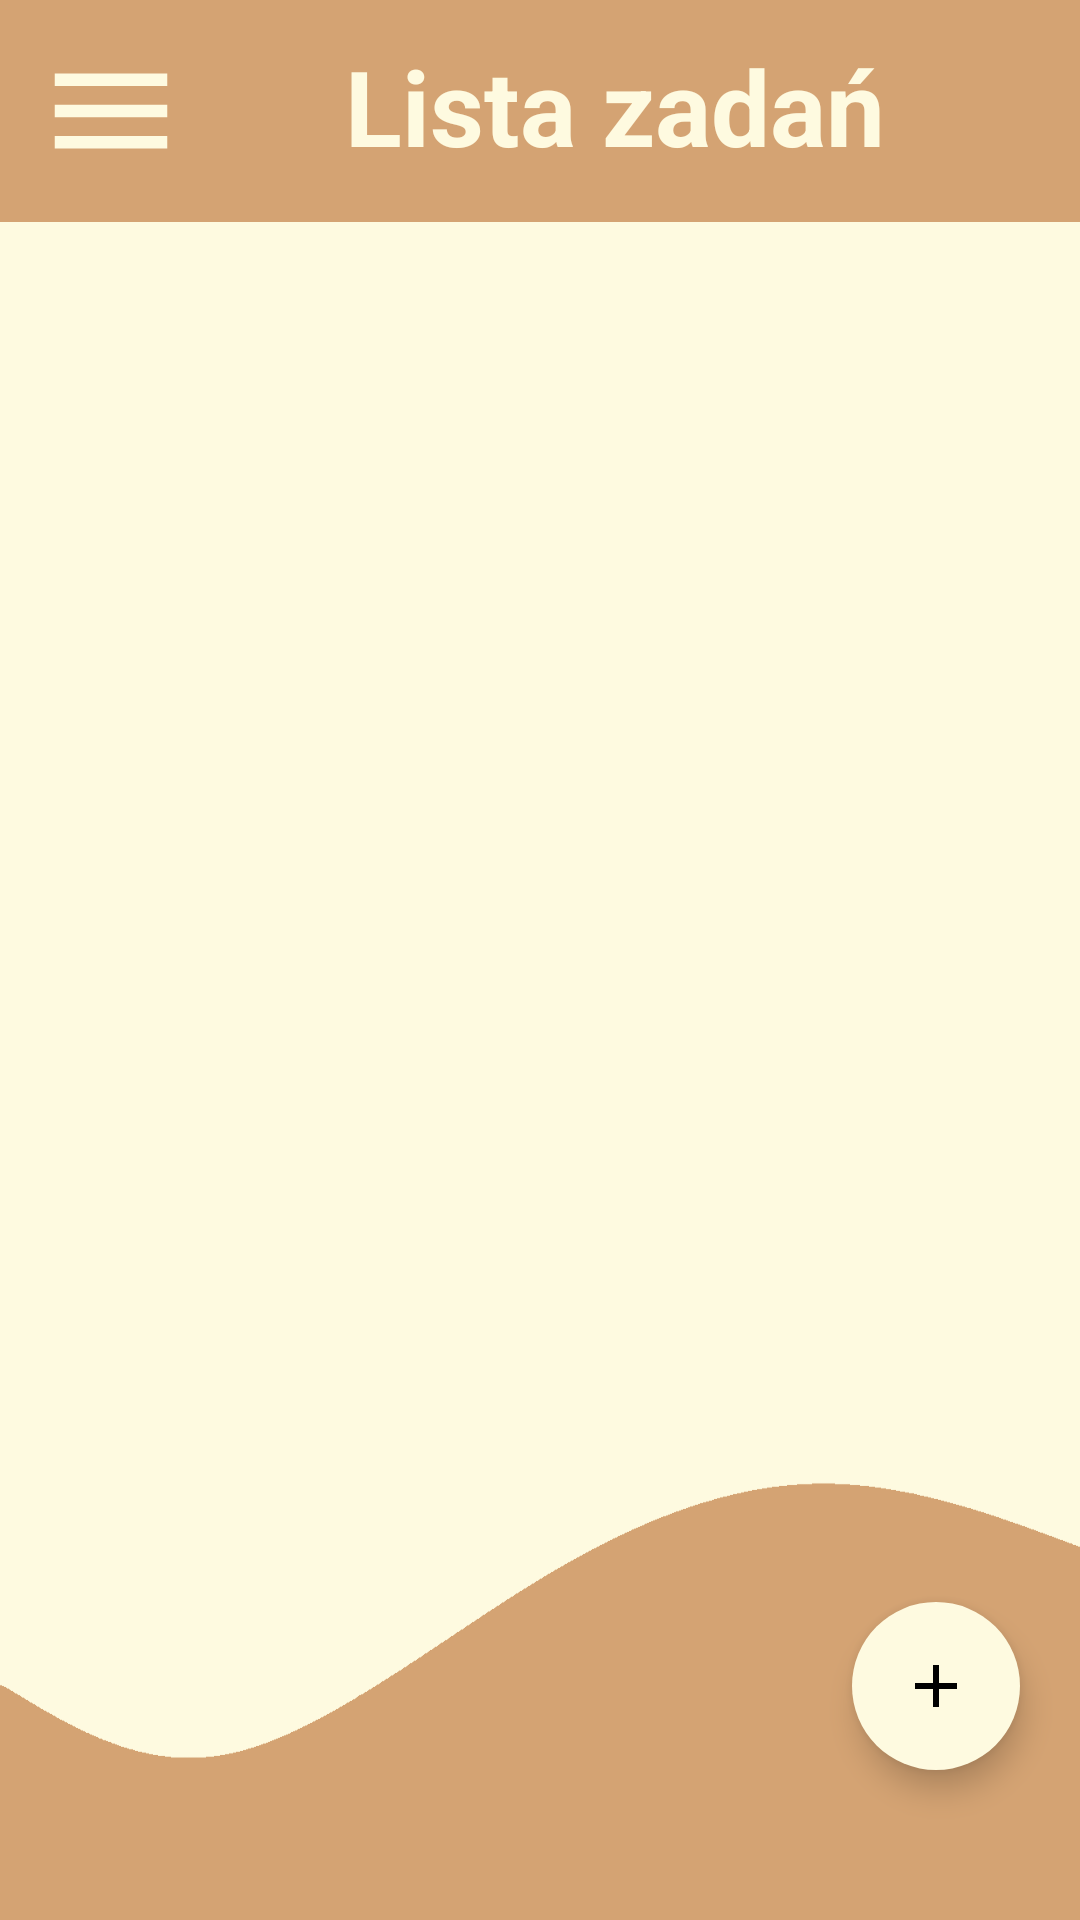

Icons on this 1080 × 1920 Android screen, each with its box as (x1, y1, x2, y2):
Add: (852, 1602, 1020, 1770)
menu: (54, 73, 168, 149)
